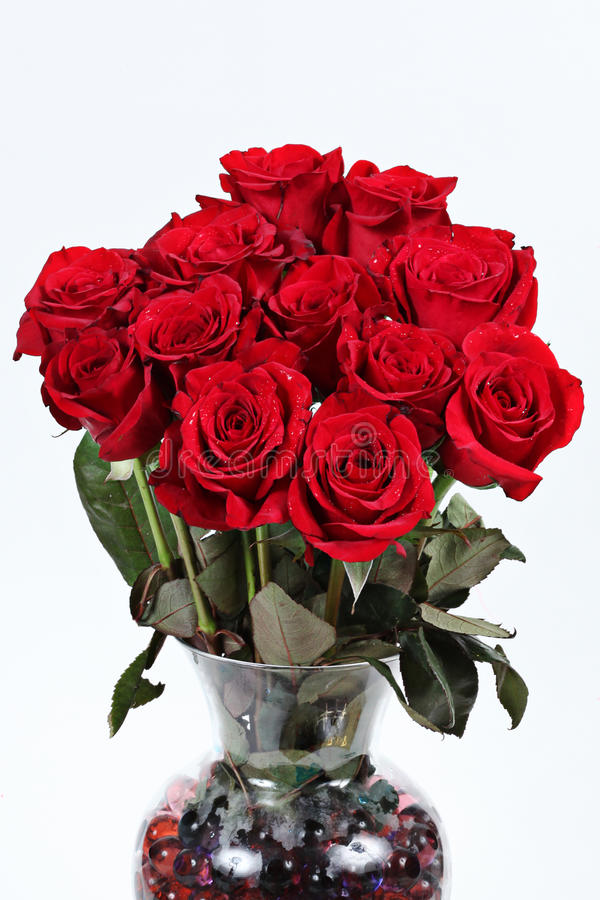RedRose: (435, 314, 597, 505), (154, 358, 292, 534), (306, 386, 432, 548), (394, 218, 573, 331), (213, 124, 354, 254), (37, 325, 157, 468), (329, 294, 455, 428), (12, 239, 154, 347), (326, 155, 458, 270)
